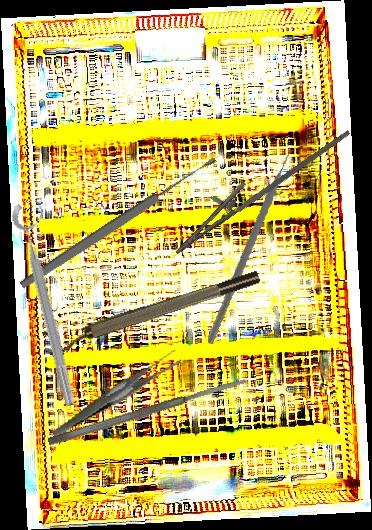Chopper: (179, 143, 336, 345)
Dressing Forceps: (40, 348, 192, 437)
Fixation Ring: (41, 266, 265, 362), (8, 197, 93, 409)
Needle Holder: (164, 99, 351, 274)
Spatula Surgical: (46, 376, 248, 447)
Surgical Spoon: (18, 154, 219, 291)
